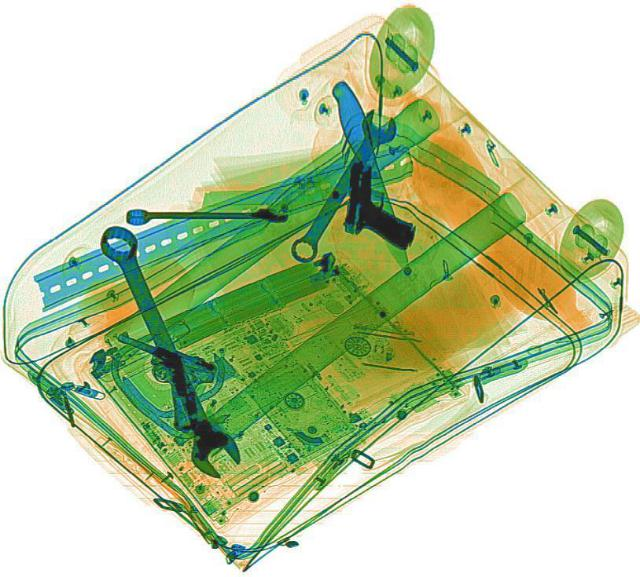Gun: (82, 328, 230, 435), (336, 158, 424, 249)
Knife: (324, 77, 424, 280)
Wrench: (89, 219, 245, 480), (277, 104, 403, 265), (123, 206, 287, 224)
